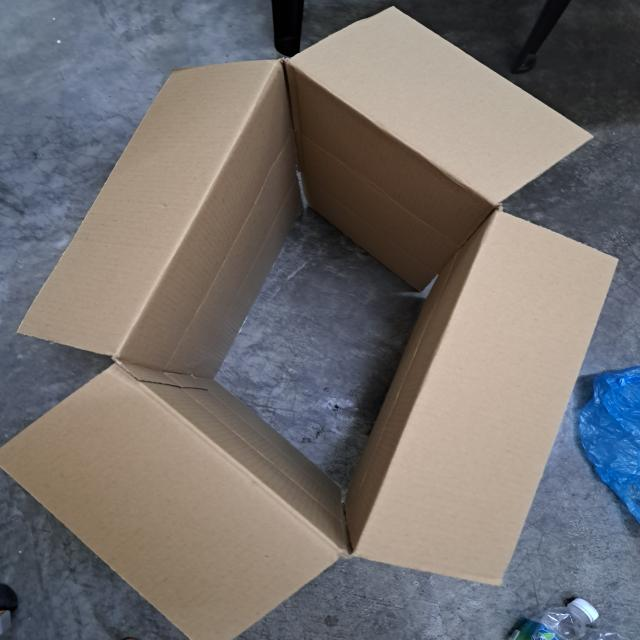cardboard: (0, 6, 620, 640)
plastic bag: (577, 366, 640, 524)
plastic bottle: (504, 606, 590, 640)
plastic bottle cap: (570, 598, 599, 623)
